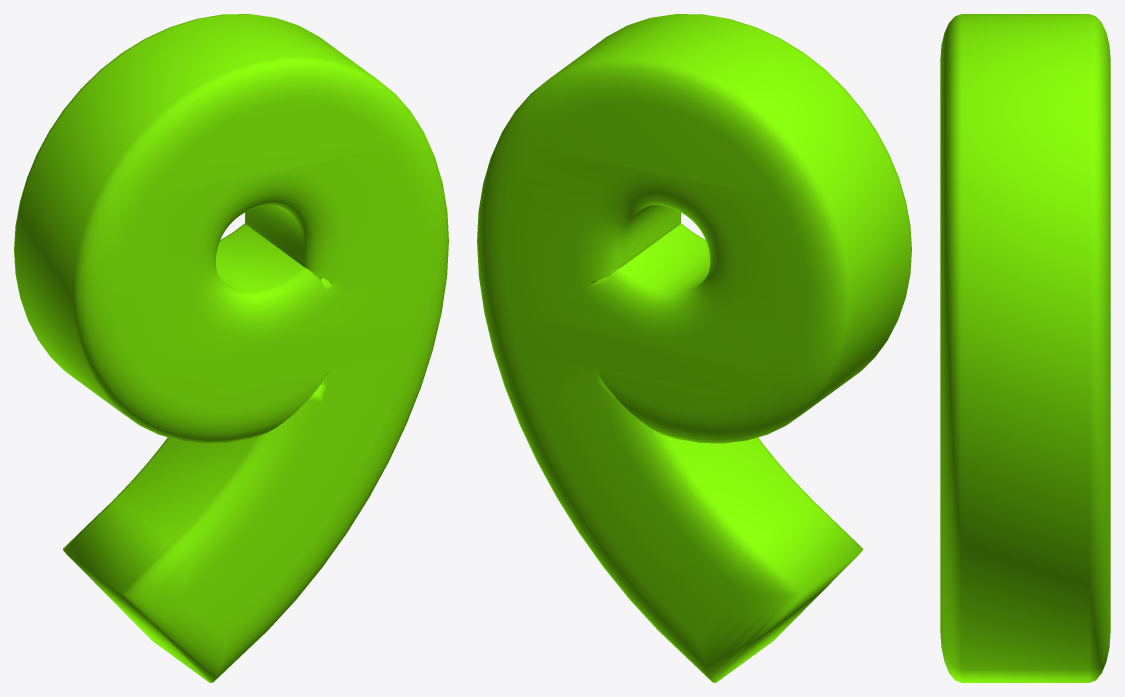
3 renders of one model, left to right at view 1: azimuth 30°, elevation 25°; view 2: azimuth 150°, elevation 25°; view 3: azimuth 270°, elevation 25°, orthographic. The views are drawn at different scales.
Visible parts, largest first — view 1: 9_Numbers010_0; view 2: 9_Numbers010_0; view 3: 9_Numbers010_0.
Boxes of the visible parts, left/top/right/bottom form: 9_Numbers010_0: left=14, top=14, right=448, bottom=682; 9_Numbers010_0: left=477, top=14, right=911, bottom=682; 9_Numbers010_0: left=940, top=14, right=1110, bottom=682.
Bounding box in the file's own units: 0.2626 × 0.4084 × 0.0938.
